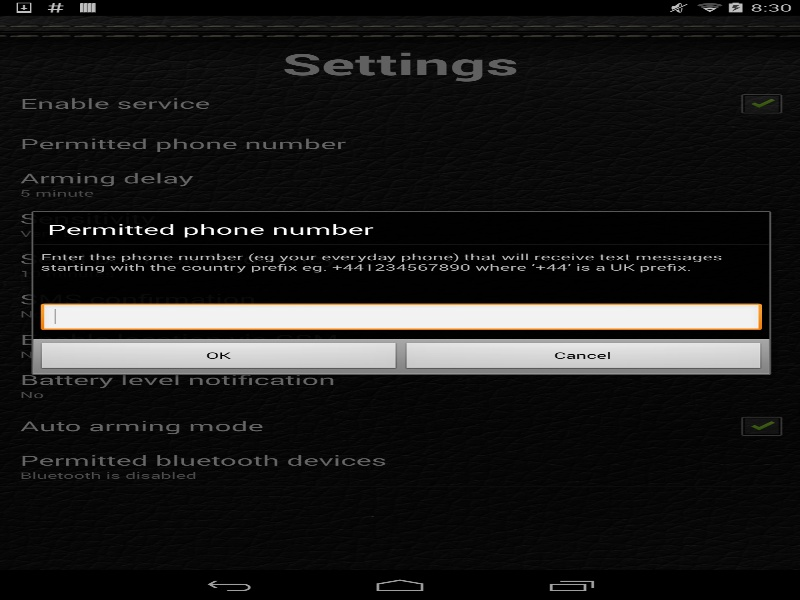Button: (36, 341, 401, 371), (401, 341, 766, 371)
Input: (40, 303, 762, 333)
